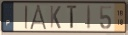5: (99, 5, 112, 31)
A: (29, 4, 49, 31)
I: (86, 5, 92, 31), (24, 5, 29, 31)
K: (49, 5, 62, 30)
T: (66, 4, 79, 31)
